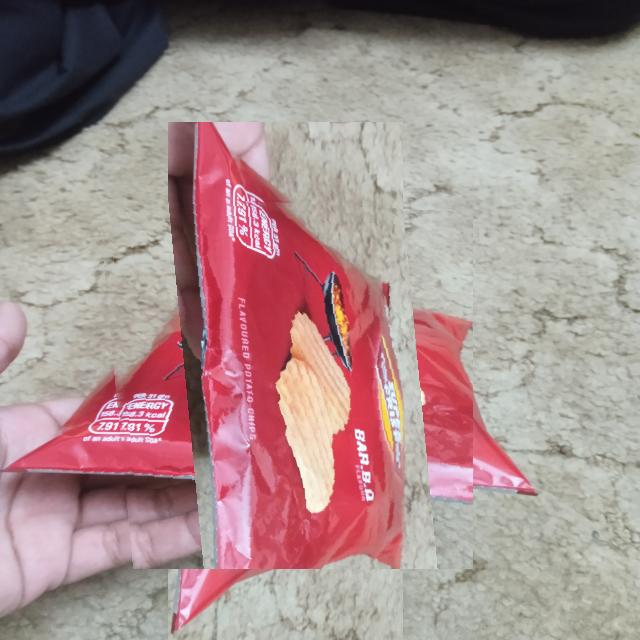Plastic: (97, 193, 473, 569)
